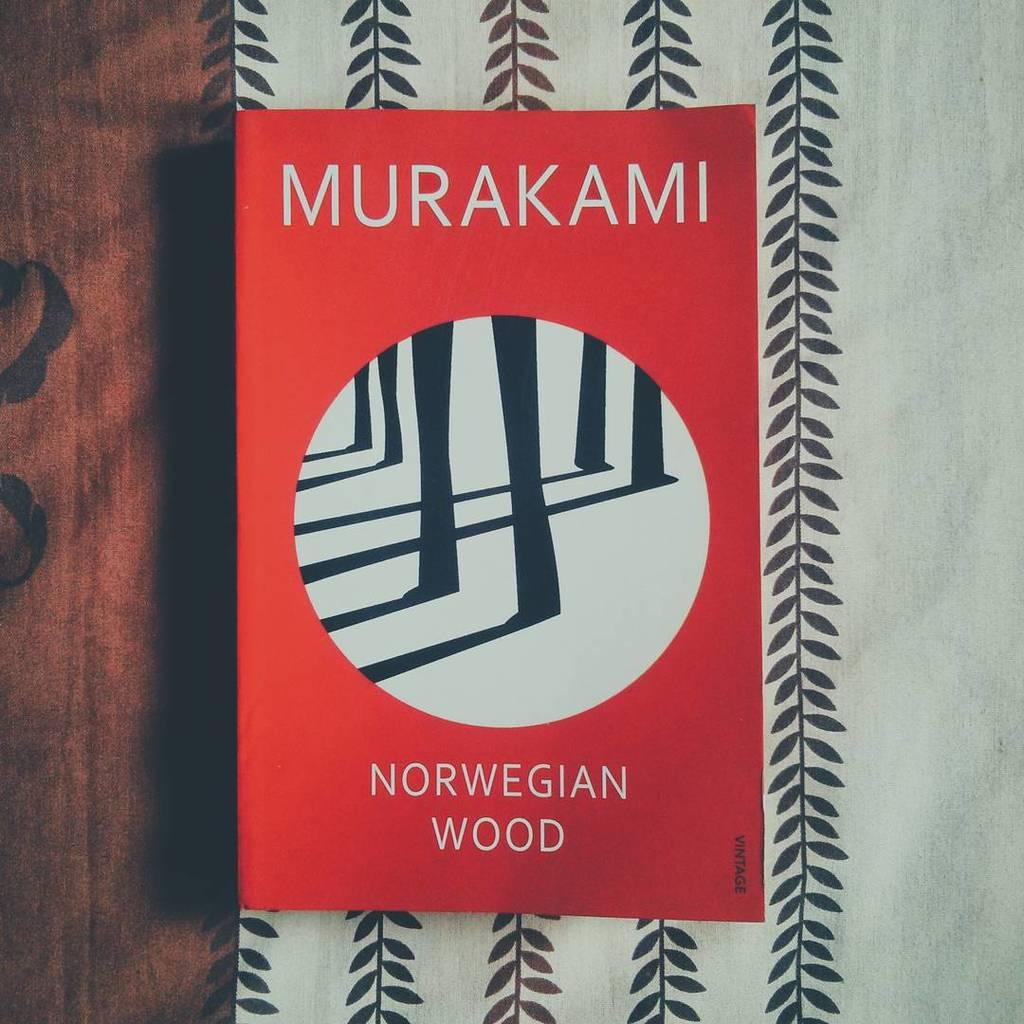book: (239, 104, 764, 920)
